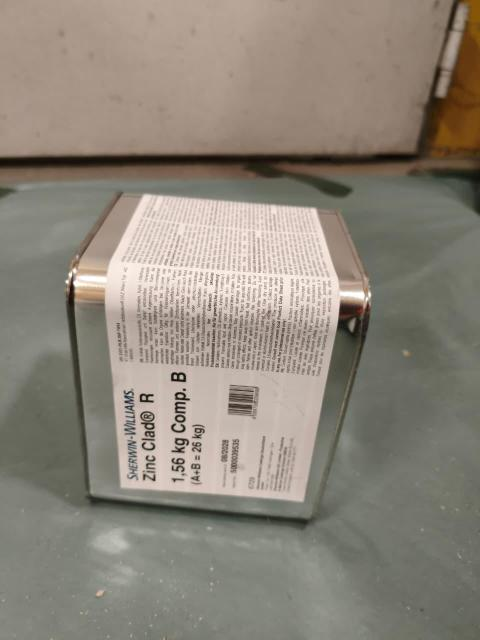Kagit: (142, 207, 310, 492)
Metal: (52, 187, 373, 540)
